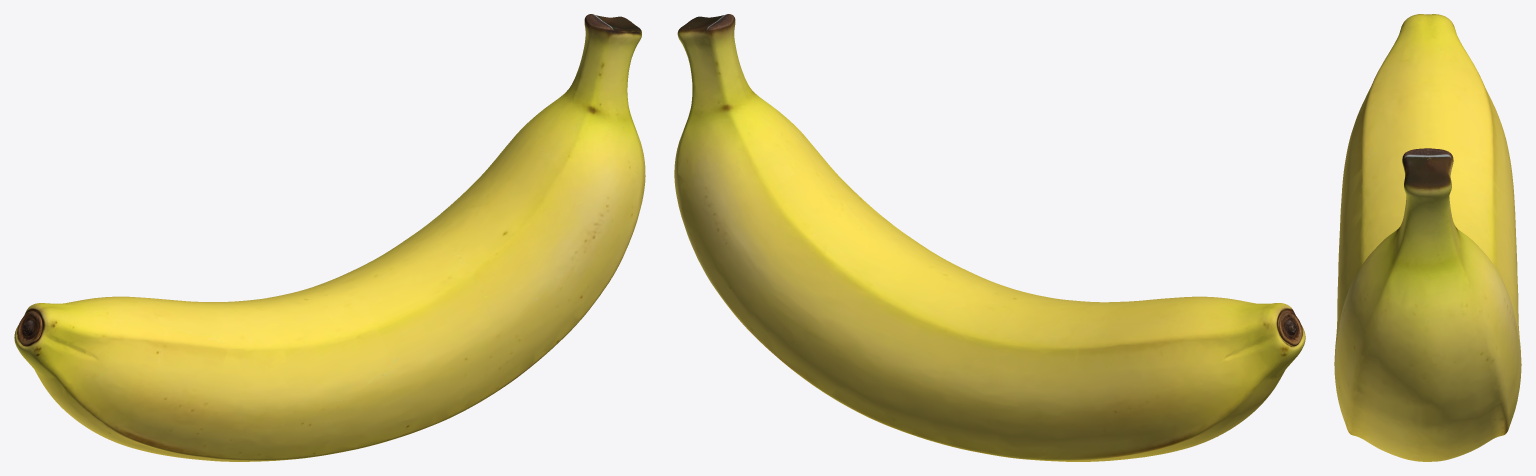
File: banana.glb
3 renders of one model, left to right at view 1: azimuth 30°, elevation 25°; view 2: azimuth 150°, elevation 25°; view 3: azimuth 270°, elevation 25°, orthographic. The views are drawn at different scales.
Size of the model in its own units: 1.9 by 1.06 by 0.4397.
1 material, 1 textured.
